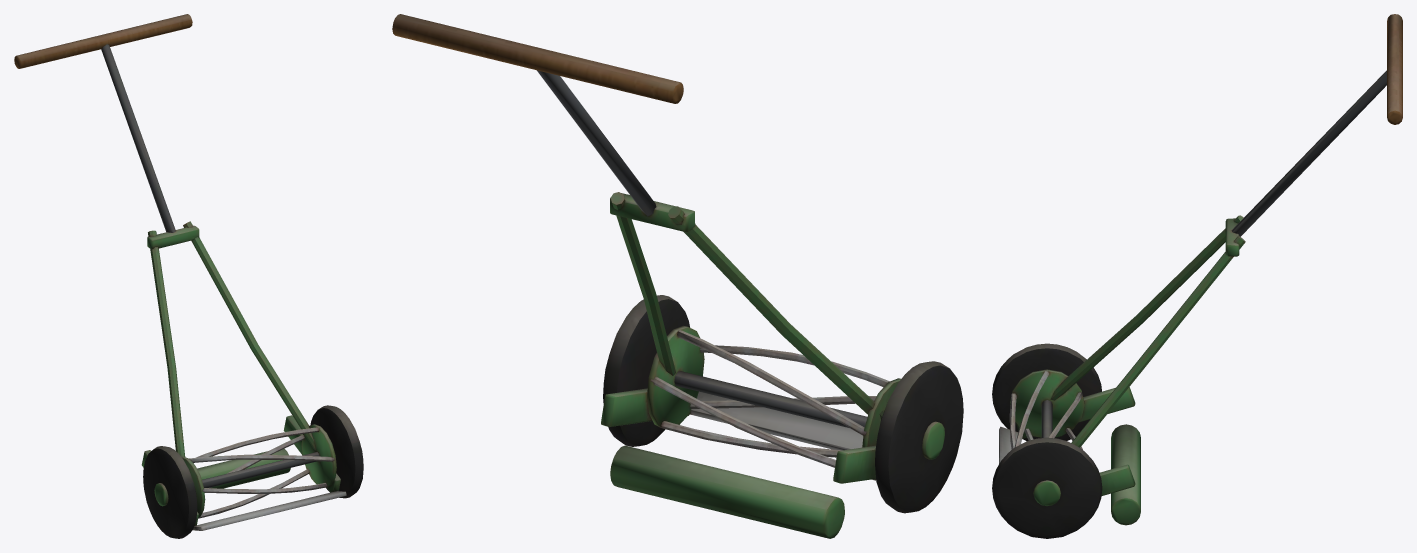
Rendered from lawnmower-low.glb.
3 renders of one model, left to right at view 1: azimuth 30°, elevation 25°; view 2: azimuth 150°, elevation 25°; view 3: azimuth 270°, elevation 25°, orthographic. The views are drawn at different scales.
Visible parts, largest first — view 1: lawnmower-low; view 2: lawnmower-low; view 3: lawnmower-low.
Boxes of the visible parts, x1=… form: lawnmower-low: x1=14, y1=14, x2=363, y2=538; lawnmower-low: x1=392, y1=14, x2=963, y2=538; lawnmower-low: x1=992, y1=14, x2=1402, y2=538.
Size of the model in its own units: 0.5401 by 1.02 by 0.8861.
Materials: 1 (1 with a texture image).
